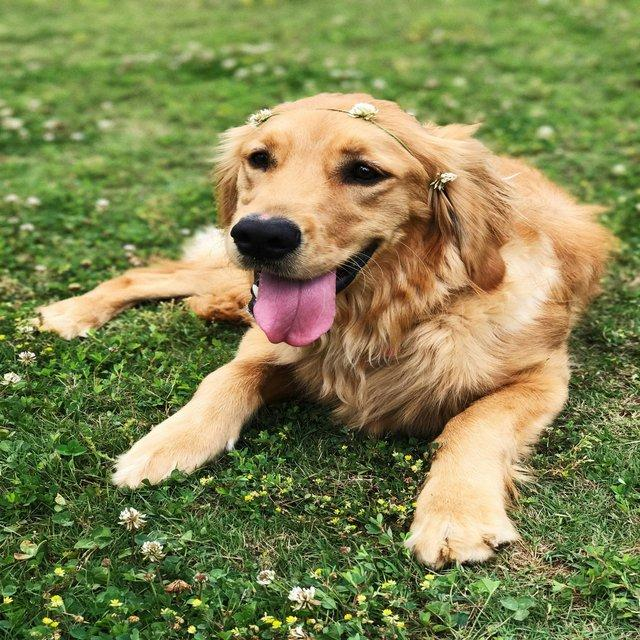retriever: (28, 89, 620, 570)
